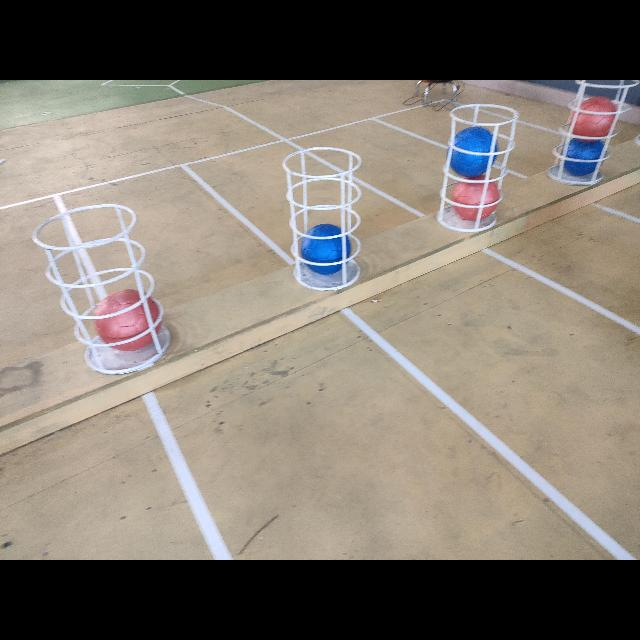B: (300, 226, 352, 276), (447, 128, 497, 176), (560, 137, 606, 179)
R: (92, 289, 162, 351), (568, 98, 618, 142), (451, 178, 501, 220)
